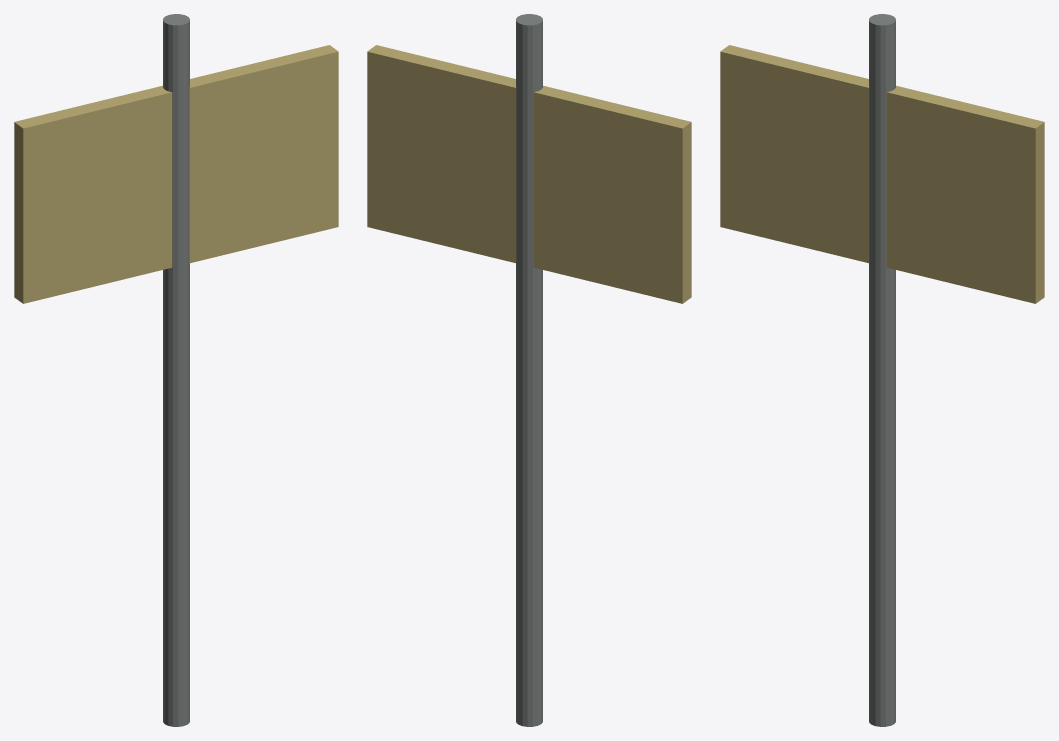
Rendered from warning_sign.glb.
The picture shows the model from 3 angles, left to right: view 1: azimuth 30°, elevation 25°; view 2: azimuth 150°, elevation 25°; view 3: azimuth 330°, elevation 25°; orthographic projection.
Parts seen in each view (by area): view 1: sign_0, post_1; view 2: sign_0, post_1; view 3: sign_0, post_1.
Part boxes in pixels (x1=…): sign_0: x1=14, y1=45, x2=338, y2=303; post_1: x1=163, y1=14, x2=189, y2=726; sign_0: x1=367, y1=45, x2=691, y2=303; post_1: x1=516, y1=14, x2=542, y2=726; sign_0: x1=720, y1=45, x2=1044, y2=303; post_1: x1=869, y1=14, x2=895, y2=726.
Size of the model in its own units: 1.6 by 3.4 by 0.12.
